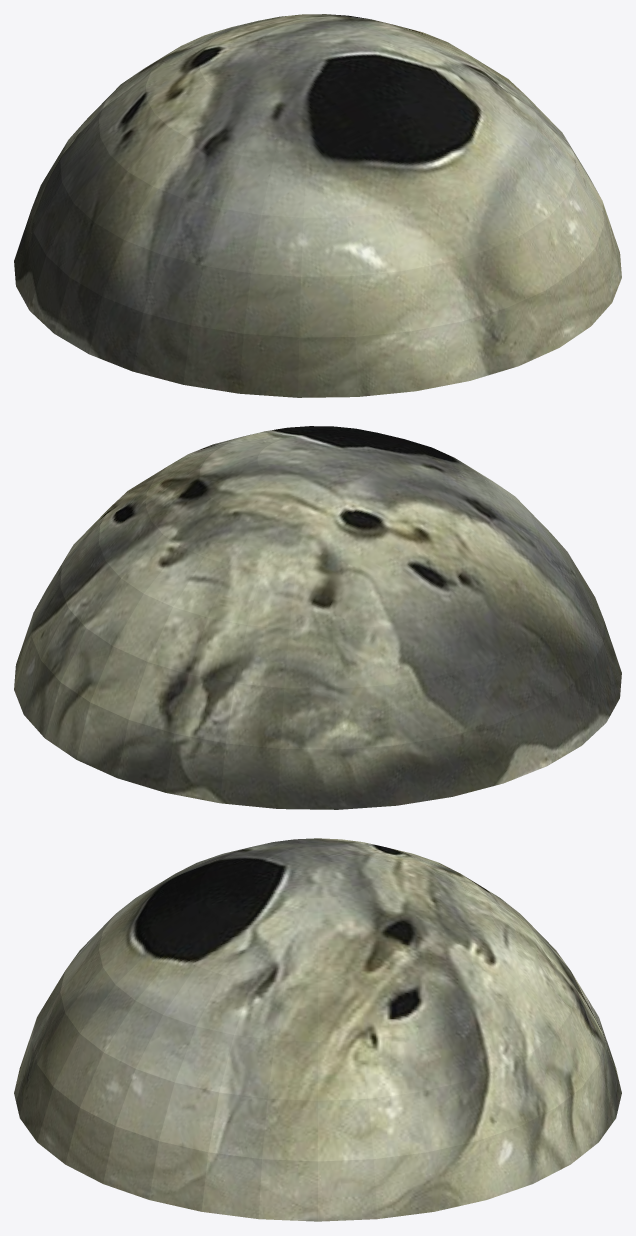
Rendered from skullinside.fbx.
3 views of the same model, one above another, from view 1: azimuth 30°, elevation 25°; view 2: azimuth 150°, elevation 25°; view 3: azimuth 270°, elevation 25° (orthographic).
Parts seen in each view (by area): view 1: skull; view 2: skull; view 3: skull.
Boxes of the visible parts, box(x1,y1,x2,y2) form: skull: box(14, 14, 621, 397); skull: box(14, 426, 621, 809); skull: box(14, 838, 621, 1221).
Bounding box in the file's own units: 1004 × 412 × 1004.
